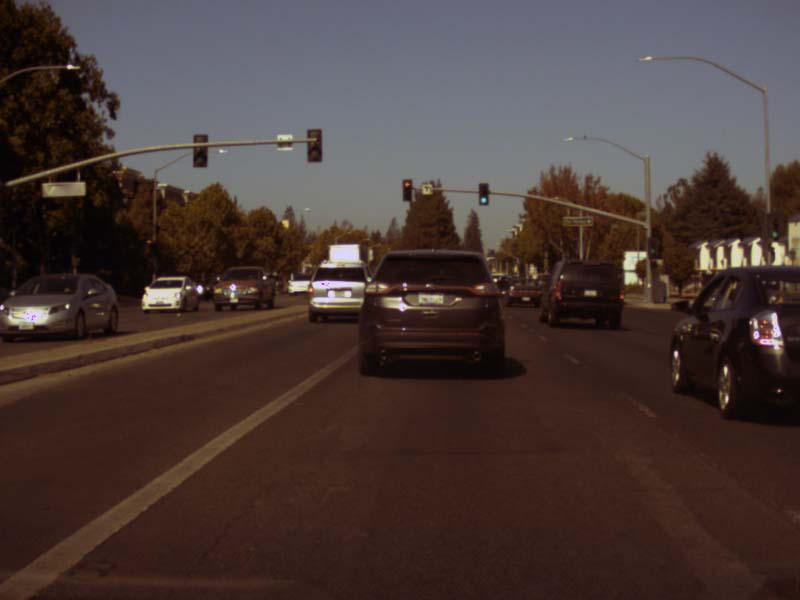Green: (648, 238, 657, 256), (480, 182, 487, 204), (771, 217, 777, 238)
Red: (403, 179, 410, 201), (146, 238, 152, 255)
